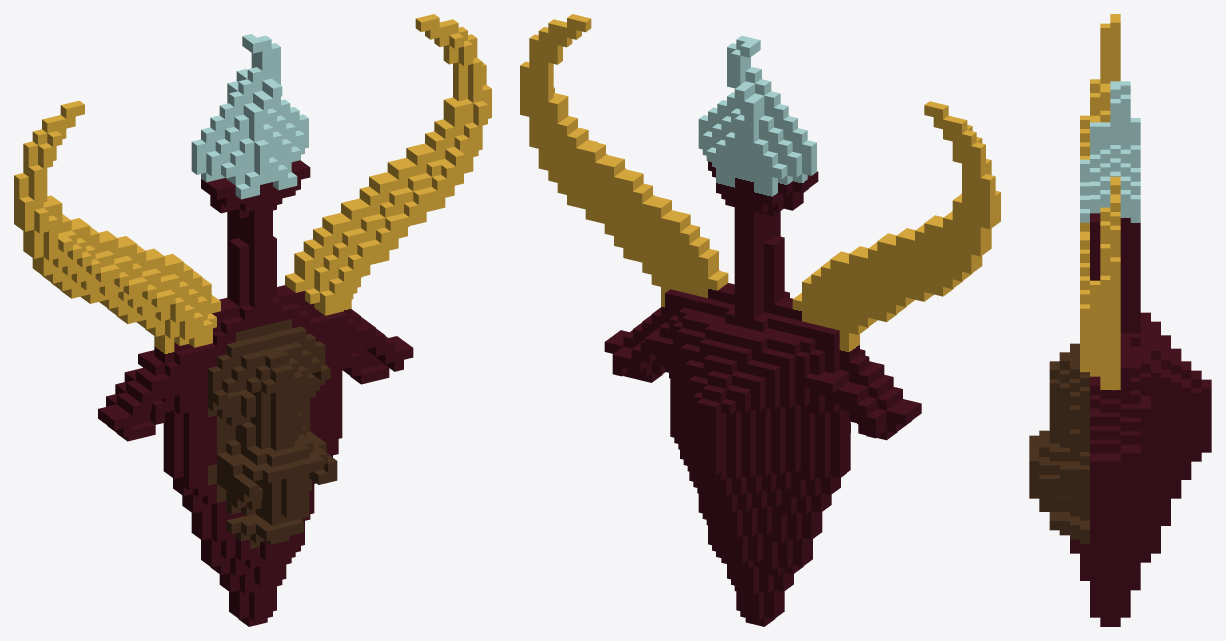
Rendered from exportedDivvil.dae.
The picture shows the model from 3 angles, left to right: view 1: azimuth 30°, elevation 25°; view 2: azimuth 150°, elevation 25°; view 3: azimuth 270°, elevation 25°; orthographic projection. The views are drawn at different scales.
Visible parts, largest first — view 1: exportedDivvil; view 2: exportedDivvil; view 3: exportedDivvil.
Part boxes in pixels (x1,y1,x2,y2): exportedDivvil: (14, 14, 491, 626); exportedDivvil: (520, 14, 1000, 626); exportedDivvil: (1029, 14, 1211, 626).
Size of the model in its own units: 5 by 5.9 by 1.8.
1 material, 1 textured.
